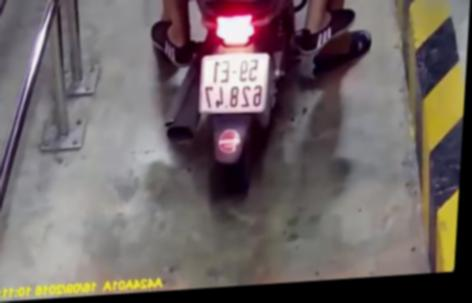License_Plate: (191, 45, 276, 120)
